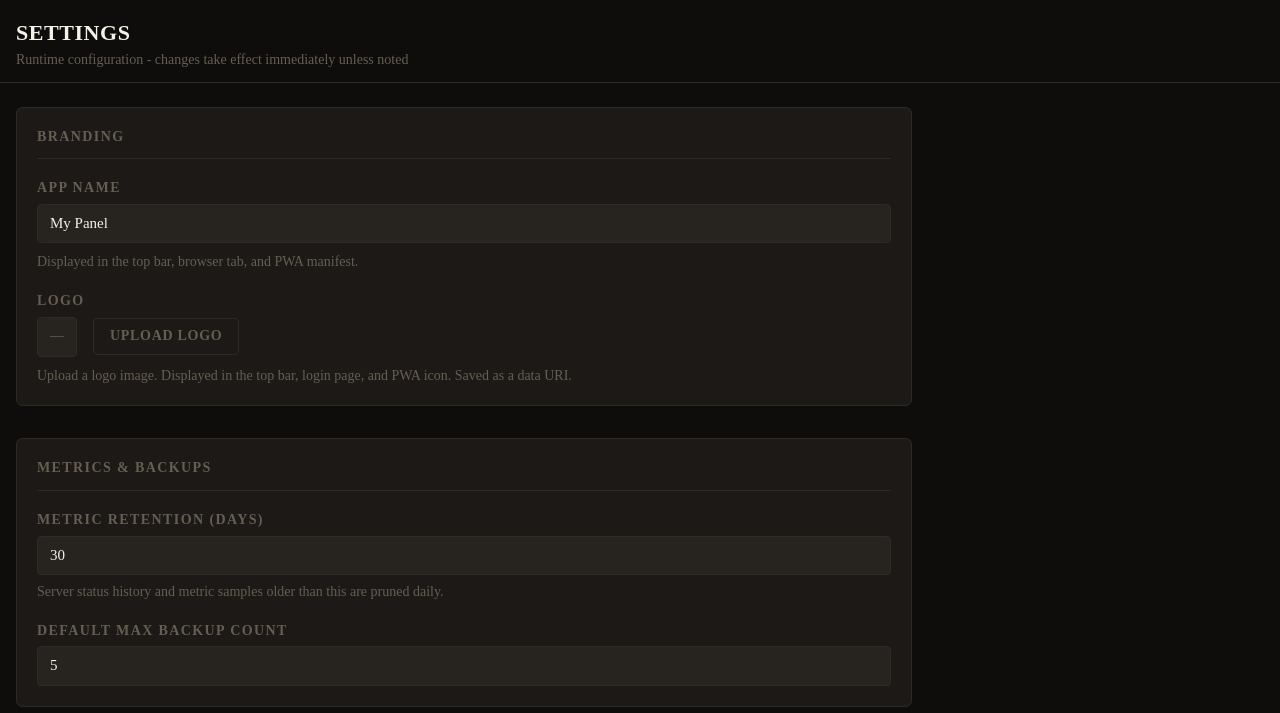
SettingsPage › shows success message after save
Replace the text in the number field below "Metric Retention (days)" with "60" at coordinates (464, 555), box [37,536,891,575]
(page scrolled)
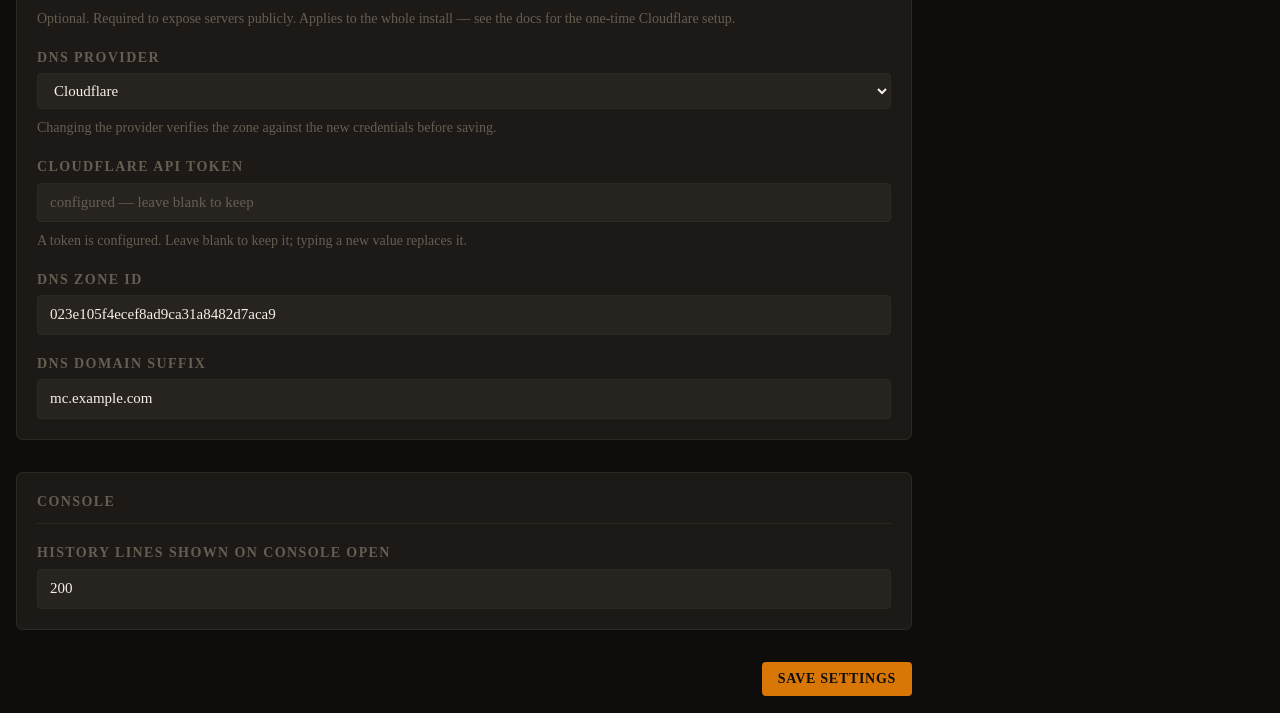
Click the button "Save Settings" at coordinates (837, 679), box [762,662,912,696]
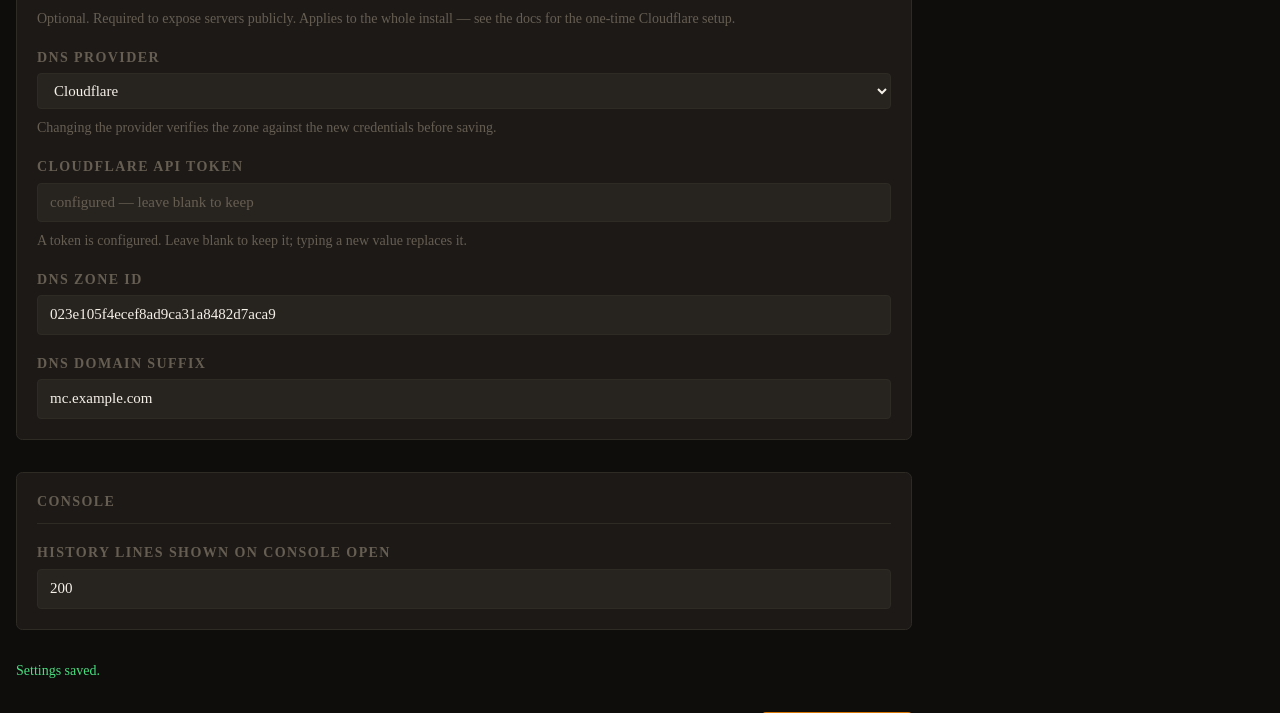
Result: the text "Settings saved." is shown at [16,663,100,678]
